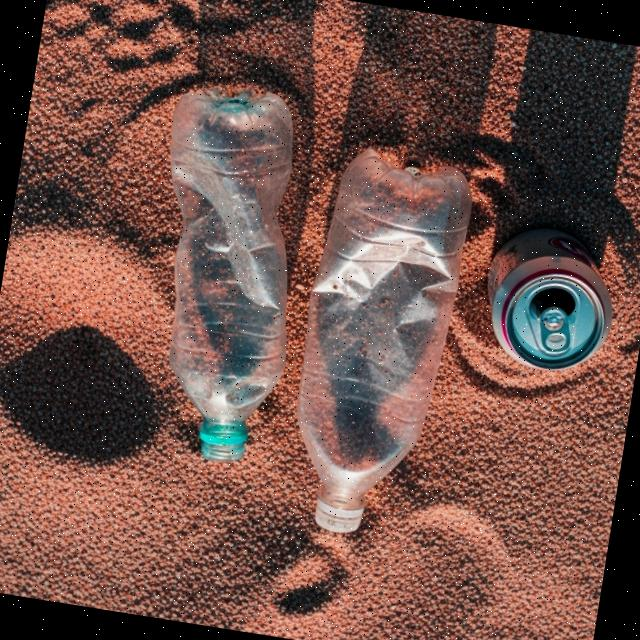aluminum: (478, 222, 624, 382)
plastic: (274, 148, 480, 546), (122, 78, 326, 470)
